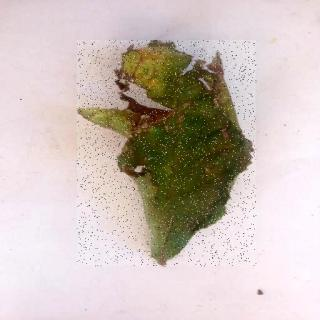Brown Blight: (78, 42, 258, 268)
